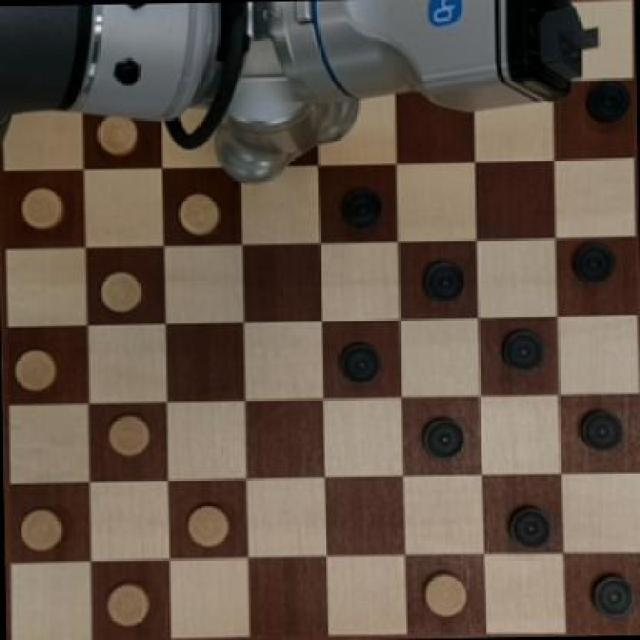black: (498, 495, 553, 554), (412, 250, 467, 307), (330, 178, 388, 232), (582, 567, 636, 618), (497, 328, 546, 383), (416, 412, 468, 461), (576, 404, 626, 454), (338, 334, 383, 384), (566, 242, 620, 280), (586, 78, 632, 118)
white: (416, 562, 474, 619), (101, 580, 160, 634), (11, 184, 72, 232), (185, 497, 232, 555), (21, 504, 69, 559), (173, 189, 226, 238), (98, 263, 146, 315), (102, 411, 152, 458), (10, 349, 63, 392), (93, 118, 147, 154)
